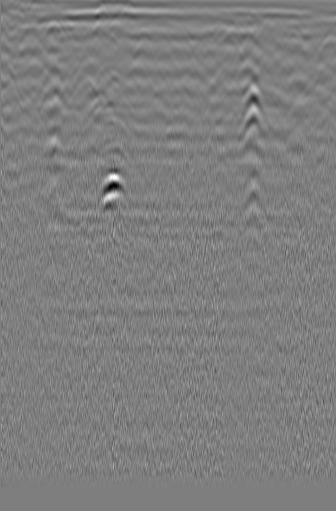가스: (95, 165, 131, 203)
상수: (14, 23, 43, 49)
오수: (290, 32, 322, 59)
우수: (130, 27, 154, 50)
